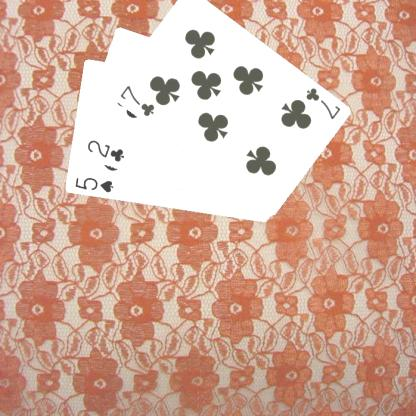2C: (84, 137, 125, 163)
5S: (72, 175, 115, 194)
7C: (302, 85, 342, 121), (117, 82, 156, 118)
